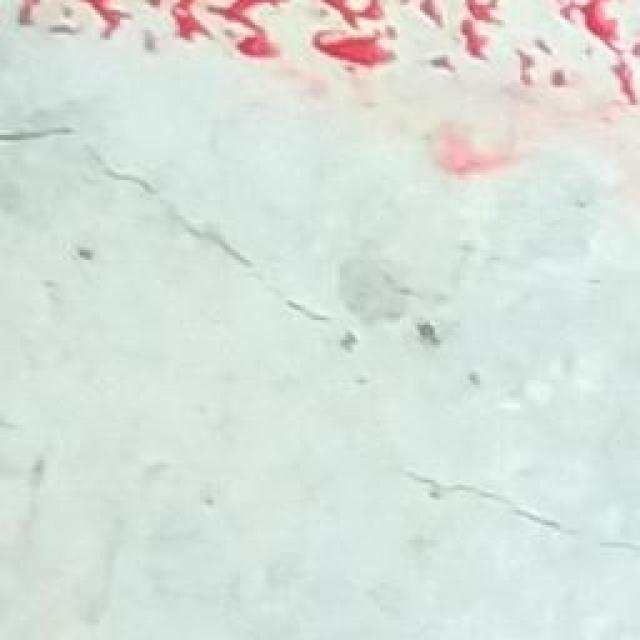Rippled: (2, 0, 638, 114)
Transverse: (0, 121, 640, 352), (350, 370, 640, 590)
